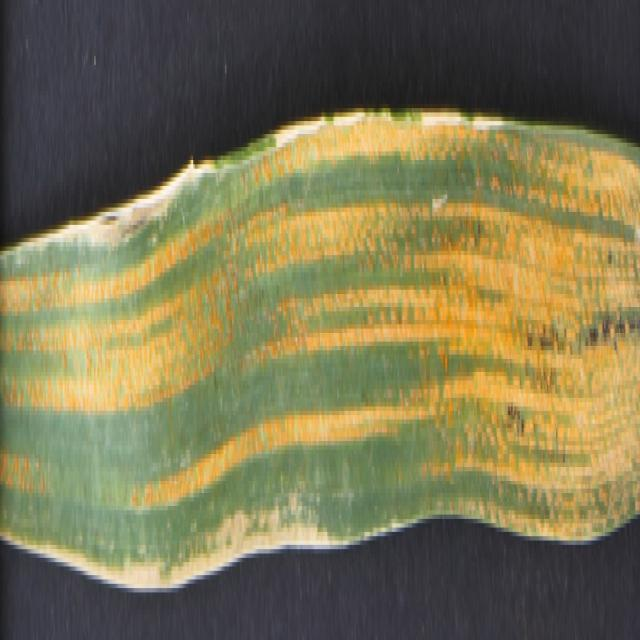leaf rust: (1, 116, 640, 554)
